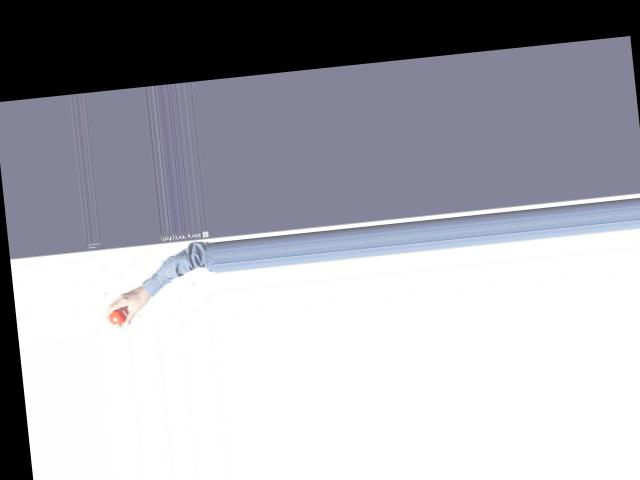tomato: (107, 309, 126, 324)
